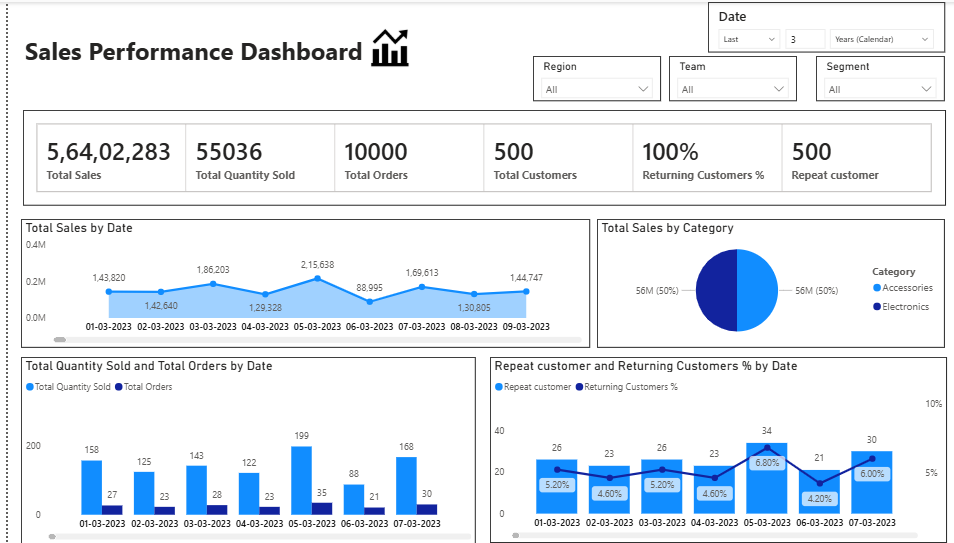

The dashboard page shown, as its layout file describes it:
{"tool":"powerbi","page":{"name":"Summary","canvas":[1280,720],"ordinal":0},"visuals":[{"type":"cardVisual","fields":{"Data":["_All Measures.Total Sales","_All Measures.Total Quantity Sold","_All Measures.Total Orders","_All Measures.Total Customers","_All Measures.Returning Customers %","_All Measures.Repeat customer"]},"box":[20.5,143.4,1226.3,127.3],"z":0},{"type":"lineChart","fields":{"Category":["Calendar.Date"],"Y":["_All Measures.Total Sales"]},"box":[17.6,288.2,755.9,170.6],"z":1000},{"type":"slicer","fields":{"Values":["Calendar.Date"]},"box":[929.3,0,314.6,67.3],"z":2000},{"type":"lineStackedColumnComboChart","fields":{"Category":["Calendar.Date"],"Y":["_All Measures.Repeat customer"],"Y2":["_All Measures.Returning Customers %"]},"box":[639.7,472.1,607.4,247.1],"z":3000},{"type":"clusteredColumnChart","fields":{"Category":["Calendar.Date"],"Y":["_All Measures.Total Quantity Sold","_All Measures.Total Orders"]},"box":[17.6,472.1,604.4,248.5],"z":4000},{"type":"slicer","fields":{"Values":["Customers.Region"]},"box":[697.4,71.7,170,59.8],"z":5000},{"type":"slicer","fields":{"Values":["SalesData.Team"]},"box":[878,71.7,169.8,60],"z":6000},{"type":"slicer","fields":{"Values":["SalesData.Segment"]},"box":[1073.5,72.1,170.6,60.3],"z":7000},{"type":"pieChart","fields":{"Y":["_All Measures.Total Sales"],"Category":["Products.Category"]},"box":[782.4,288.2,461.8,170.6],"z":8000},{"type":"shape","box":[20.5,49.8,357.1,43.9],"z":9000},{"type":"textbox","box":[17.6,36.6,469.8,61.5],"z":10000},{"type":"image","box":[474.1,26.3,65.9,67.3],"z":11000}]}

Visuals, with their boxes in screenshot pixels (x1, y1, x2, y2), scaled from the page's 1280x720 canvas onto the 954x543 screenshot:
cardVisual - _All Measures.Total Sales x _All Measures.Total Quantity Sold: (15, 108, 929, 204)
lineChart - Calendar.Date x _All Measures.Total Sales: (13, 217, 576, 346)
slicer - Calendar.Date: (693, 0, 927, 51)
lineStackedColumnComboChart - Calendar.Date x _All Measures.Repeat customer: (477, 356, 929, 542)
clusteredColumnChart - Calendar.Date x _All Measures.Total Quantity Sold: (13, 356, 464, 542)
slicer - Customers.Region: (520, 54, 646, 99)
slicer - SalesData.Team: (654, 54, 781, 99)
slicer - SalesData.Segment: (800, 54, 927, 100)
pieChart - _All Measures.Total Sales x Products.Category: (583, 217, 927, 346)
shape: (15, 38, 281, 71)
textbox: (13, 28, 363, 74)
image: (353, 20, 402, 71)
